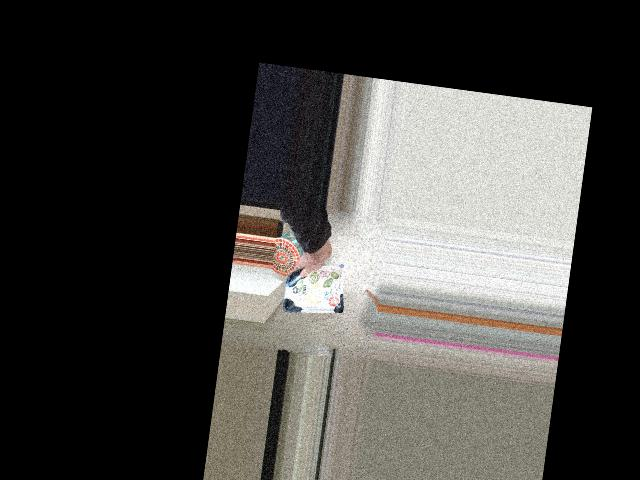cheese: (292, 249, 349, 302)
